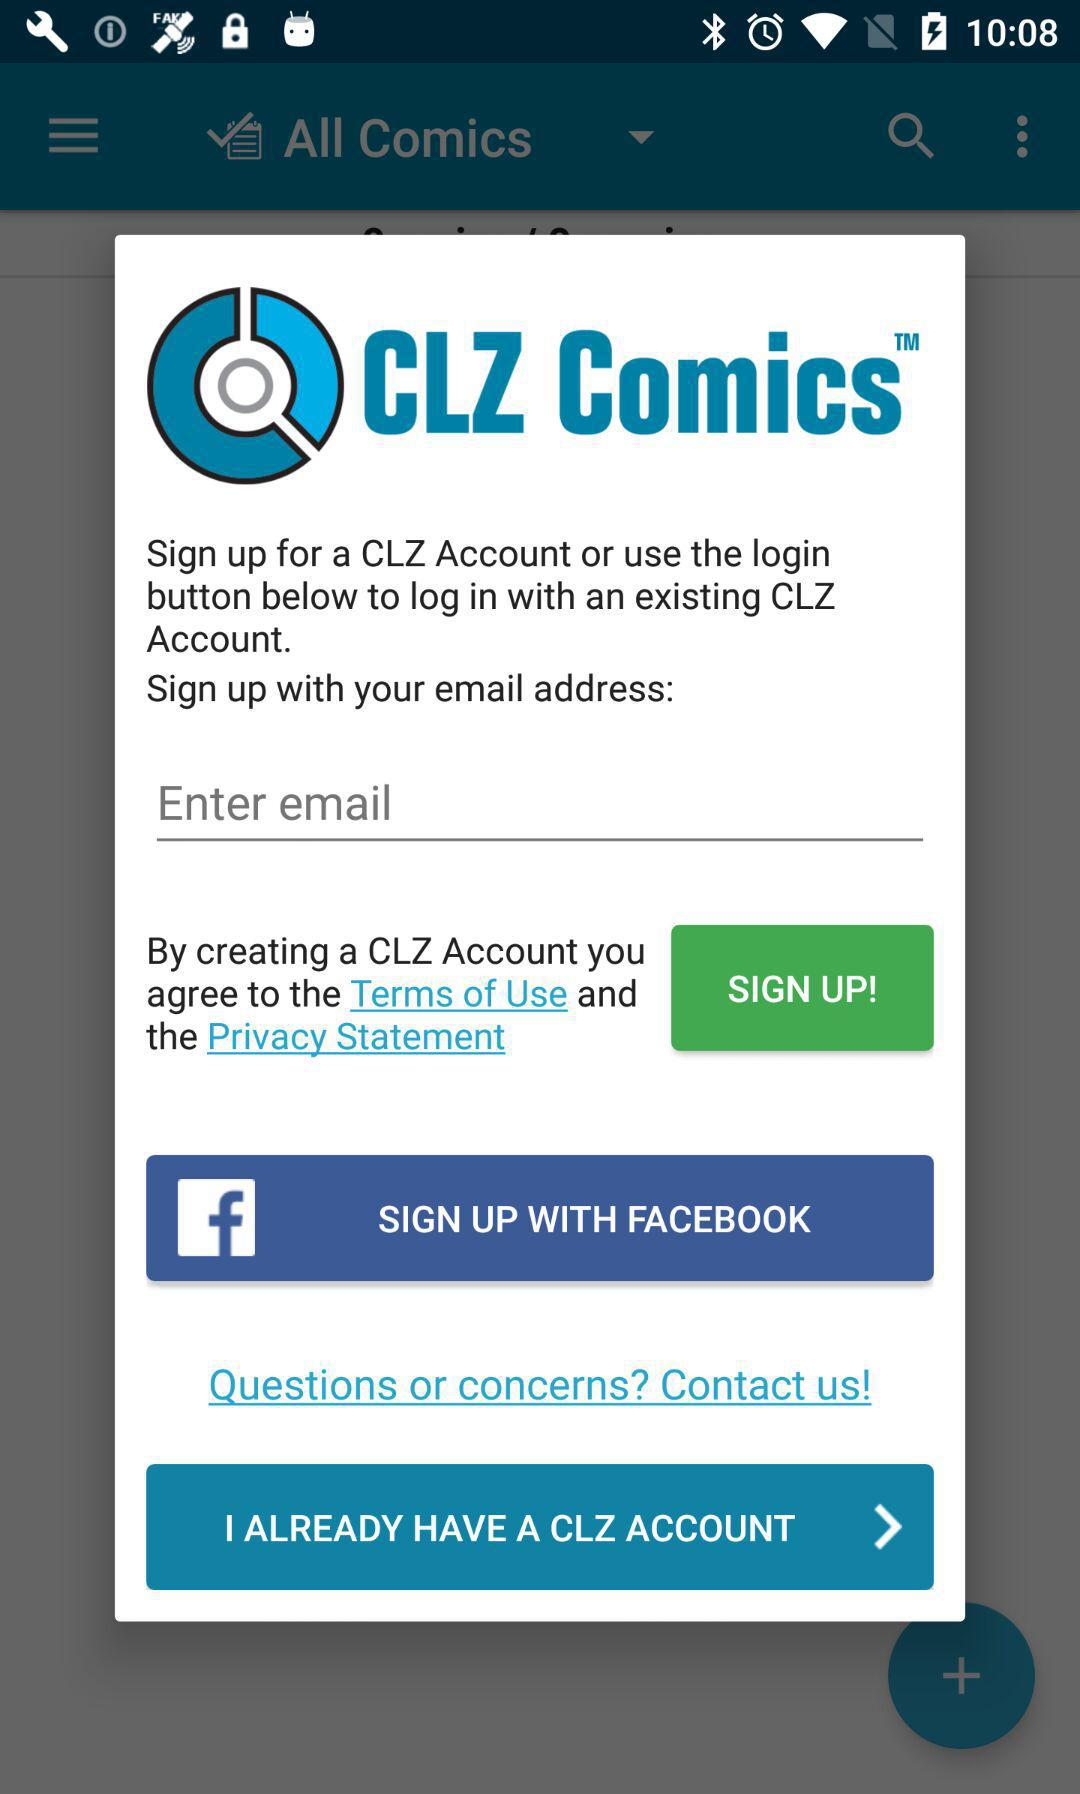EditText: (158, 784, 924, 843)
Icon: (888, 1603, 1036, 1750), (206, 111, 264, 161), (887, 111, 937, 161), (47, 117, 101, 155), (1016, 115, 1027, 160), (628, 129, 656, 146)
Image: (149, 287, 347, 488)
Modal: (115, 236, 965, 1622)
Text: (149, 538, 835, 656), (146, 937, 644, 1057), (364, 331, 921, 436), (209, 1369, 872, 1406), (149, 674, 676, 709), (284, 118, 532, 160), (160, 784, 391, 821)
TextButton: (147, 1463, 934, 1590), (147, 1155, 934, 1281), (671, 925, 934, 1052)
UpperTaskBar: (1, 1, 1080, 64)
